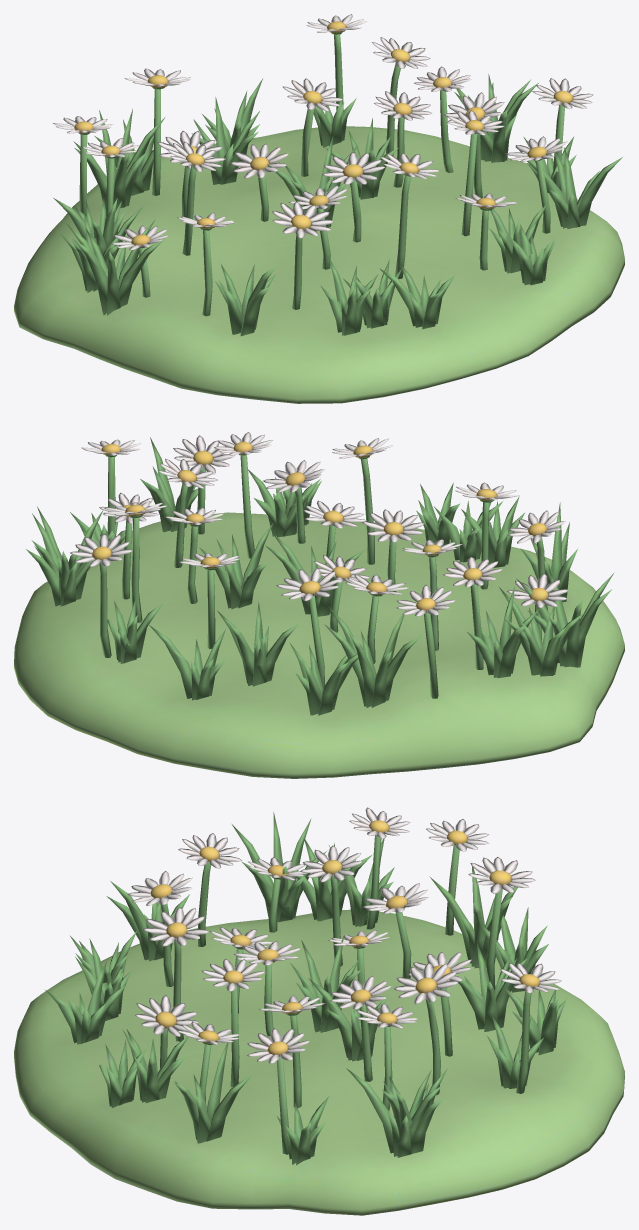
File: daisy-patch.glb
3 views of the same model, one above another, from view 1: azimuth 30°, elevation 25°; view 2: azimuth 150°, elevation 25°; view 3: azimuth 270°, elevation 25° (orthographic). The views are drawn at different scales.
Visible parts, largest first — view 1: daisy-patch_body; view 2: daisy-patch_body; view 3: daisy-patch_body.
Boxes of the visible parts, <box> form: daisy-patch_body: <box>14,14,624,403</box>; daisy-patch_body: <box>14,432,624,778</box>; daisy-patch_body: <box>14,807,624,1215</box>.
Size of the model in its own units: 0.6136 by 0.1738 by 0.5588.
1 material, 1 textured.
